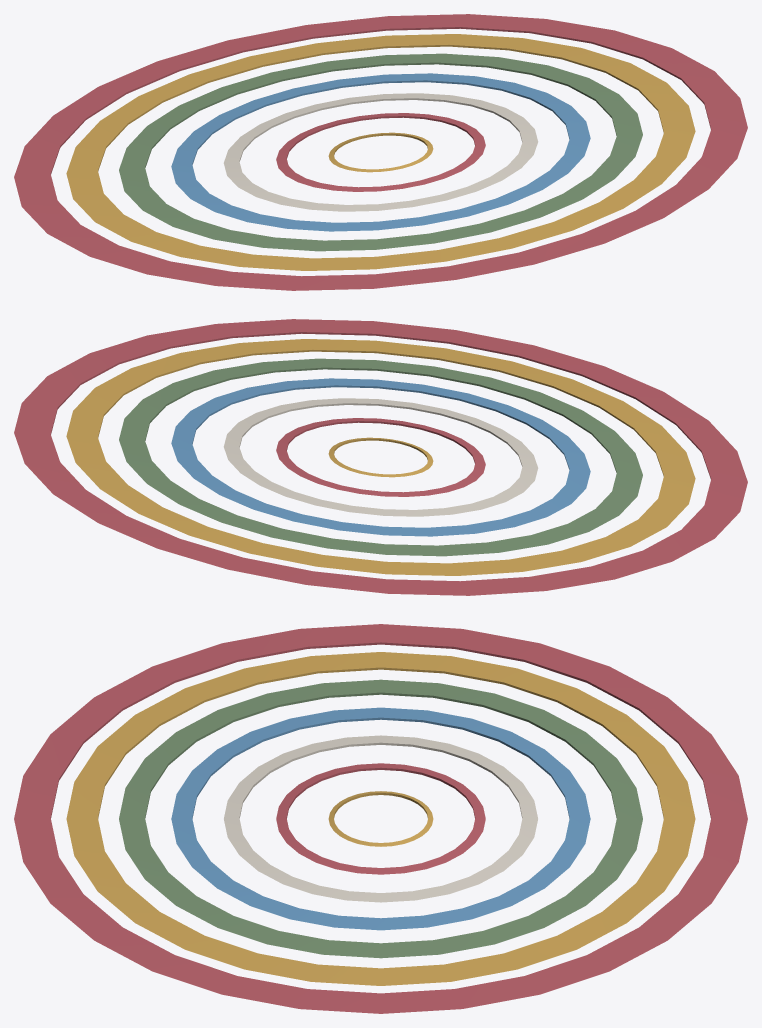
The model's file is rag_rug.glb.
3 views of the same model, one above another, from view 1: azimuth 30°, elevation 25°; view 2: azimuth 150°, elevation 25°; view 3: azimuth 270°, elevation 25° (orthographic). The views are drawn at different scales.
Visible parts, largest first — view 1: furniture-rag_rug; view 2: furniture-rag_rug; view 3: furniture-rag_rug.
Part boxes in pixels (left/top/right/bottom): furniture-rag_rug: left=14, top=14, right=747, bottom=290; furniture-rag_rug: left=14, top=319, right=747, bottom=595; furniture-rag_rug: left=14, top=624, right=747, bottom=1013.
Bounding box in the file's own units: 1.89 × 0.00483 × 1.5.
